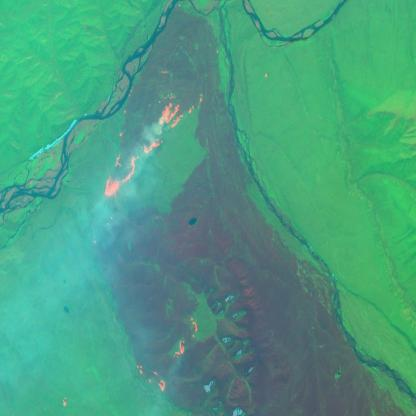fire: (101, 80, 208, 203), (136, 318, 202, 398)
